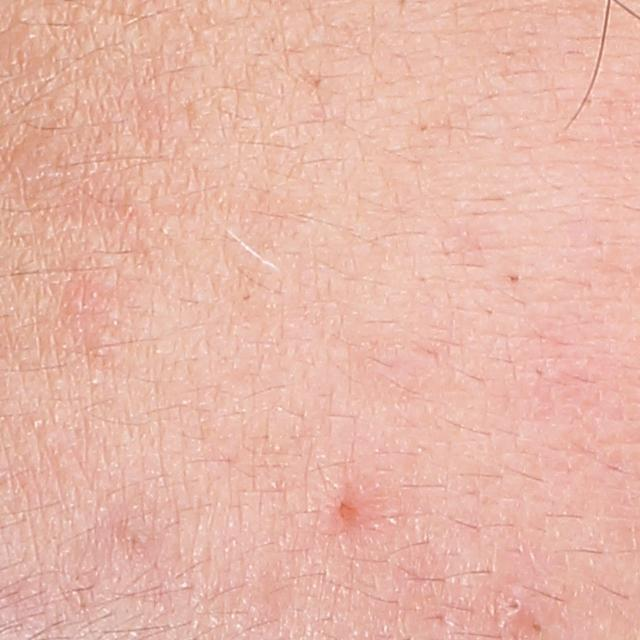comedo: (498, 588, 524, 621), (505, 272, 524, 288)
